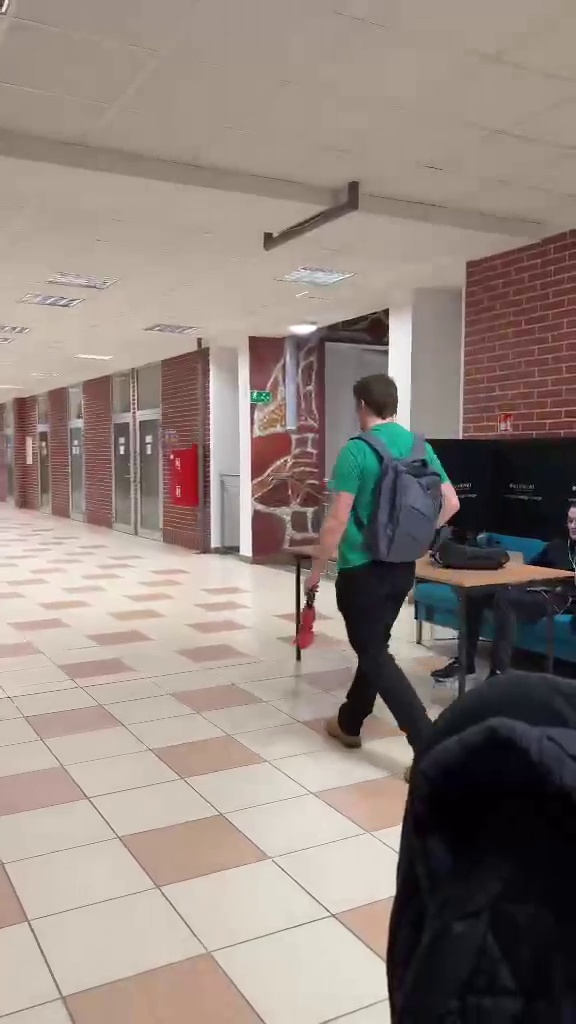no vest: (292, 381, 463, 741)
